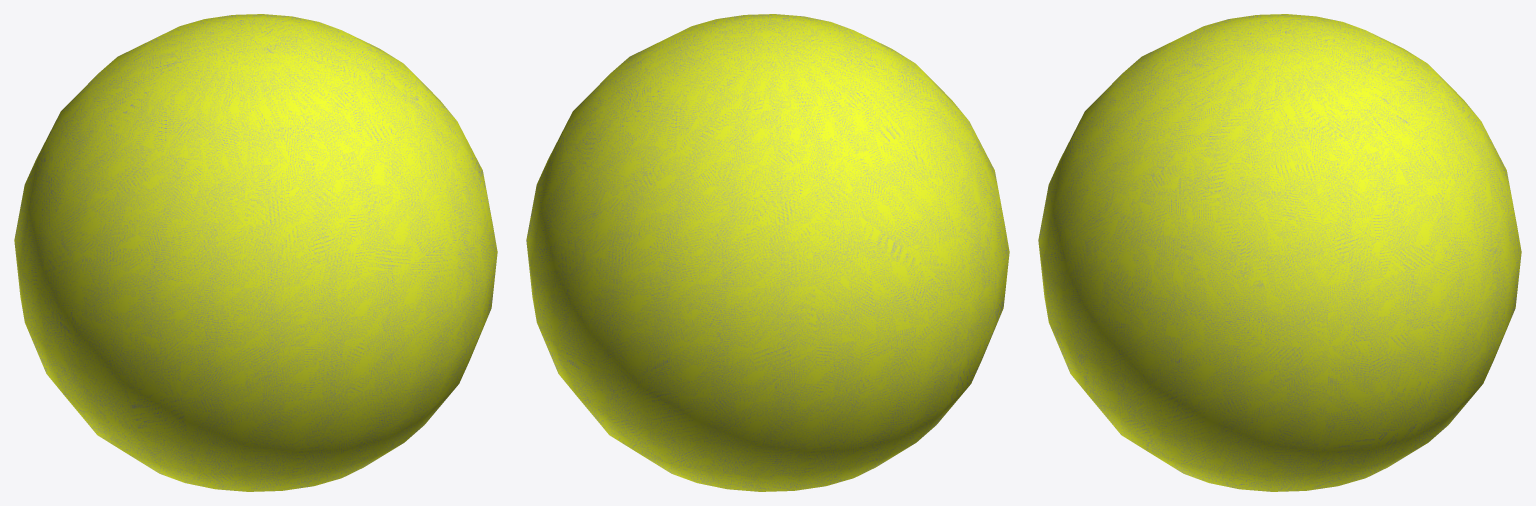
The picture shows the model from 3 angles, left to right: view 1: azimuth 30°, elevation 25°; view 2: azimuth 150°, elevation 25°; view 3: azimuth 270°, elevation 25°; orthographic projection.
Visible parts, largest first — view 1: Model; view 2: Model; view 3: Model.
Part boxes in pixels (left/top/right/bottom): Model: left=14, top=14, right=497, bottom=491; Model: left=526, top=14, right=1009, bottom=491; Model: left=1038, top=14, right=1521, bottom=491.
Size of the model in its own units: 103 by 103 by 102.
